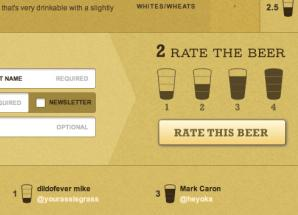button: (158, 119, 286, 146)
checkbox: (35, 97, 91, 108)
